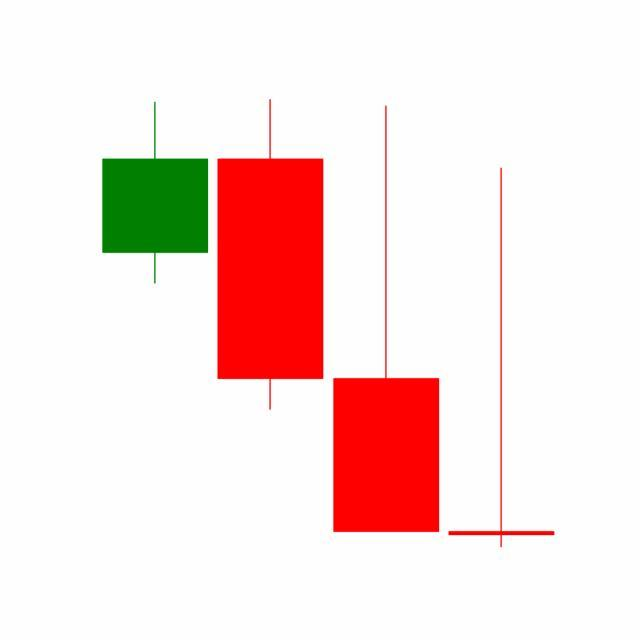Spinning Top: (444, 164, 560, 552)
